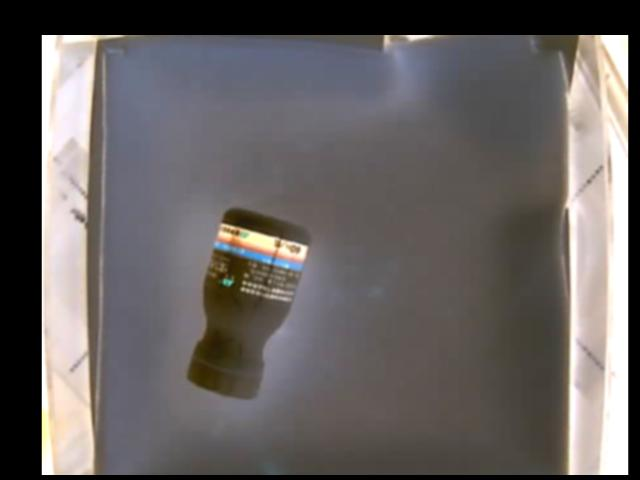Bottle: (187, 209, 309, 397)
